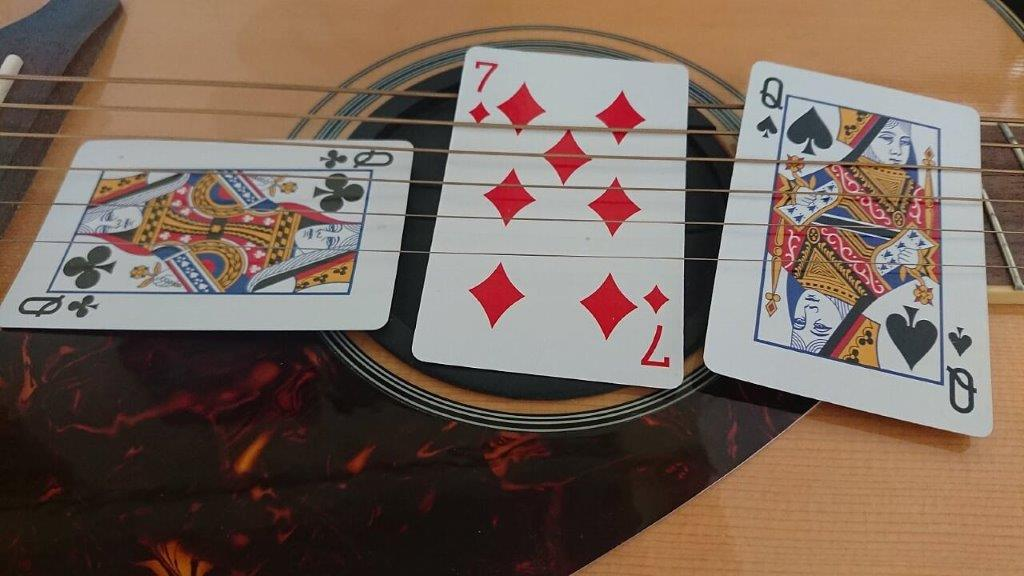7D: (467, 56, 501, 126)
QS: (751, 73, 788, 141)
